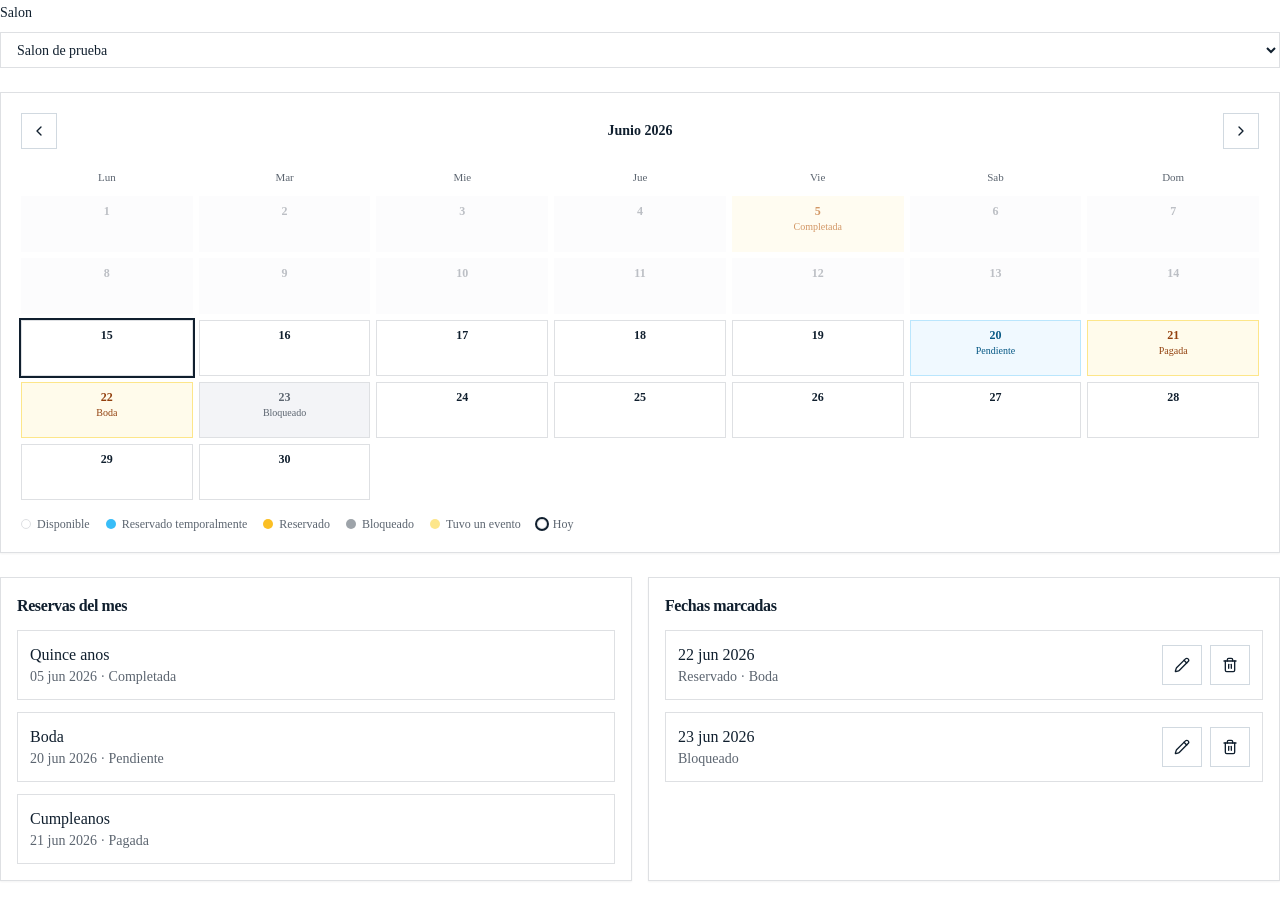
Scenario: OwnerCalendar - formulario "Agregar al calendario" › al hacer click en un dia disponible, el estado por defecto es Bloqueado y no pide tipo de evento
Click the button named "25 de junio" at (640, 410), box [554,382,726,438]
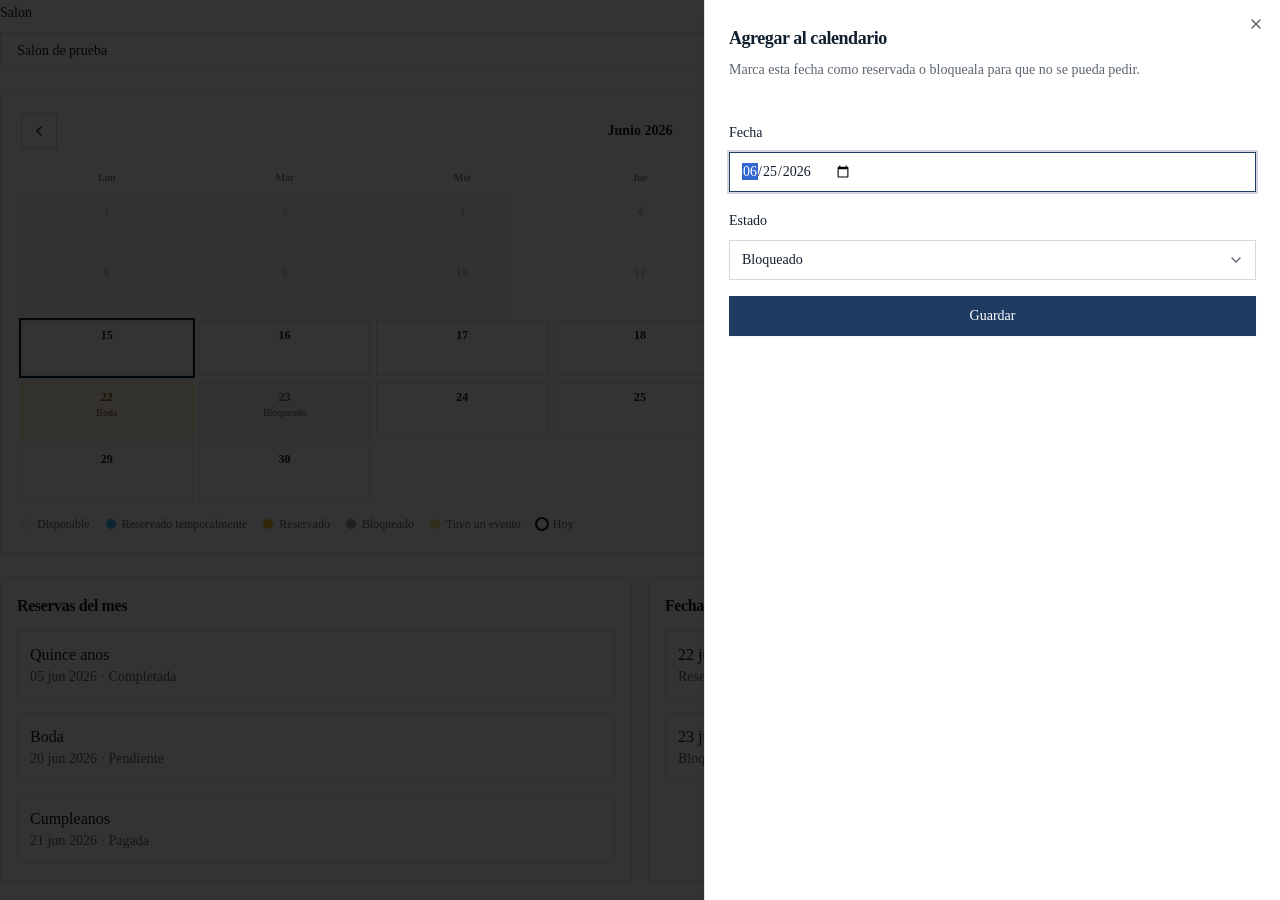
Expected: the heading "Agregar al calendario" is shown, [729,28,887,48]
Expected: the dropdown labelled "Estado" shows "Bloqueado", [729,240,1256,280]
Expected: the button "Guardar" is shown, [729,296,1256,336]
